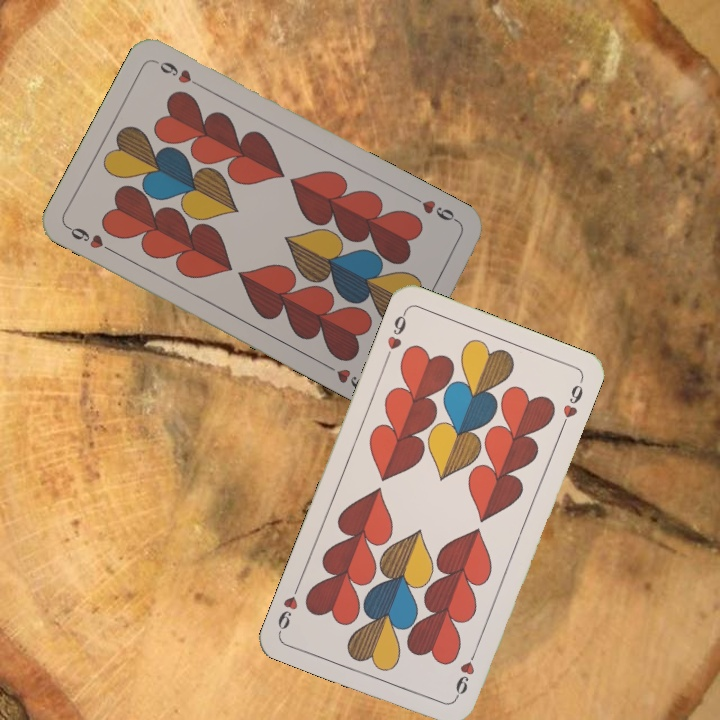H9: (63, 222, 118, 256), (408, 192, 463, 226), (450, 646, 480, 702), (380, 307, 409, 364)
